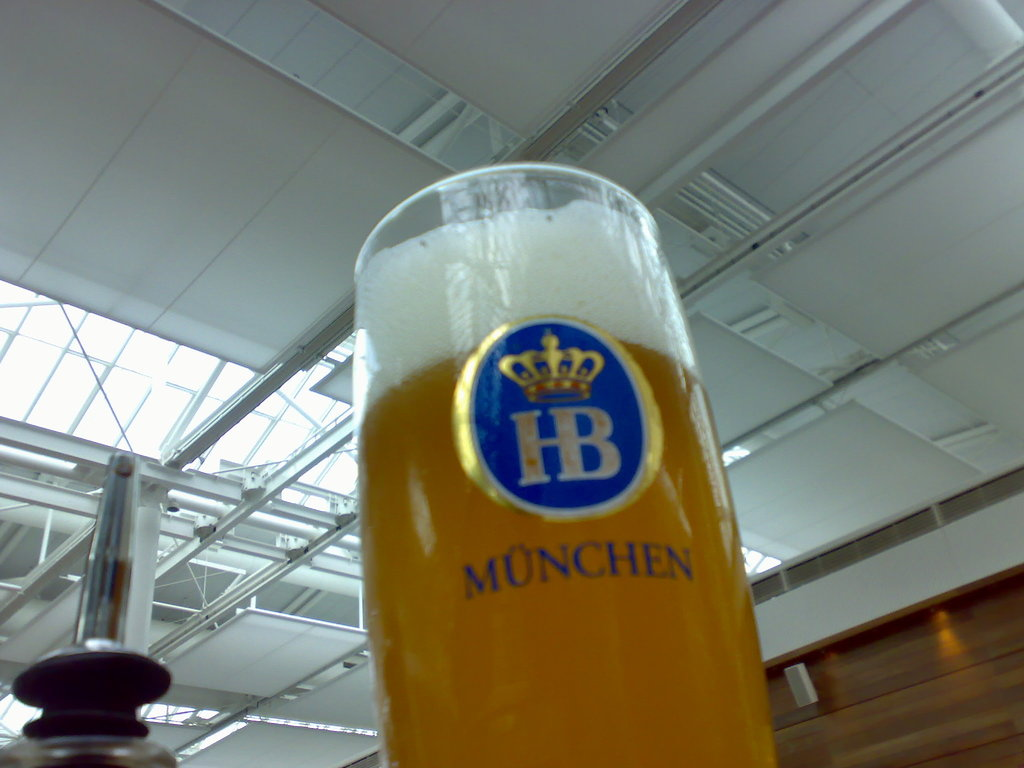Beer: (353, 147, 782, 767)
